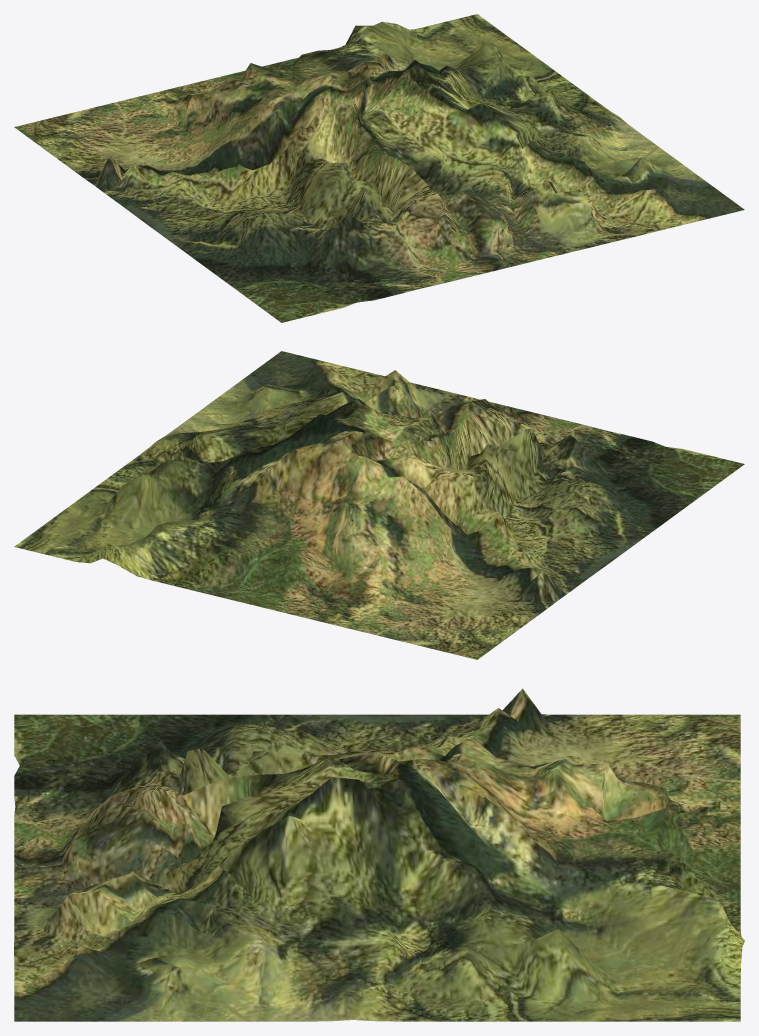
File: Mountain_v0002.fbx
3 renders of one model, top to bottom at view 1: azimuth 30°, elevation 25°; view 2: azimuth 150°, elevation 25°; view 3: azimuth 270°, elevation 25°, orthographic. The views are drawn at different scales.
Visible parts, largest first — view 1: Mountion_2; view 2: Mountion_2; view 3: Mountion_2.
Boxes of the visible parts, x1,y1,x2,y2 form: Mountion_2: (14,14,744,322); Mountion_2: (14,351,744,659); Mountion_2: (14,688,744,1021).
Bounding box in the file's own units: 15.43 × 2.82 × 15.52.
Materials: 1 (1 with a texture image).
